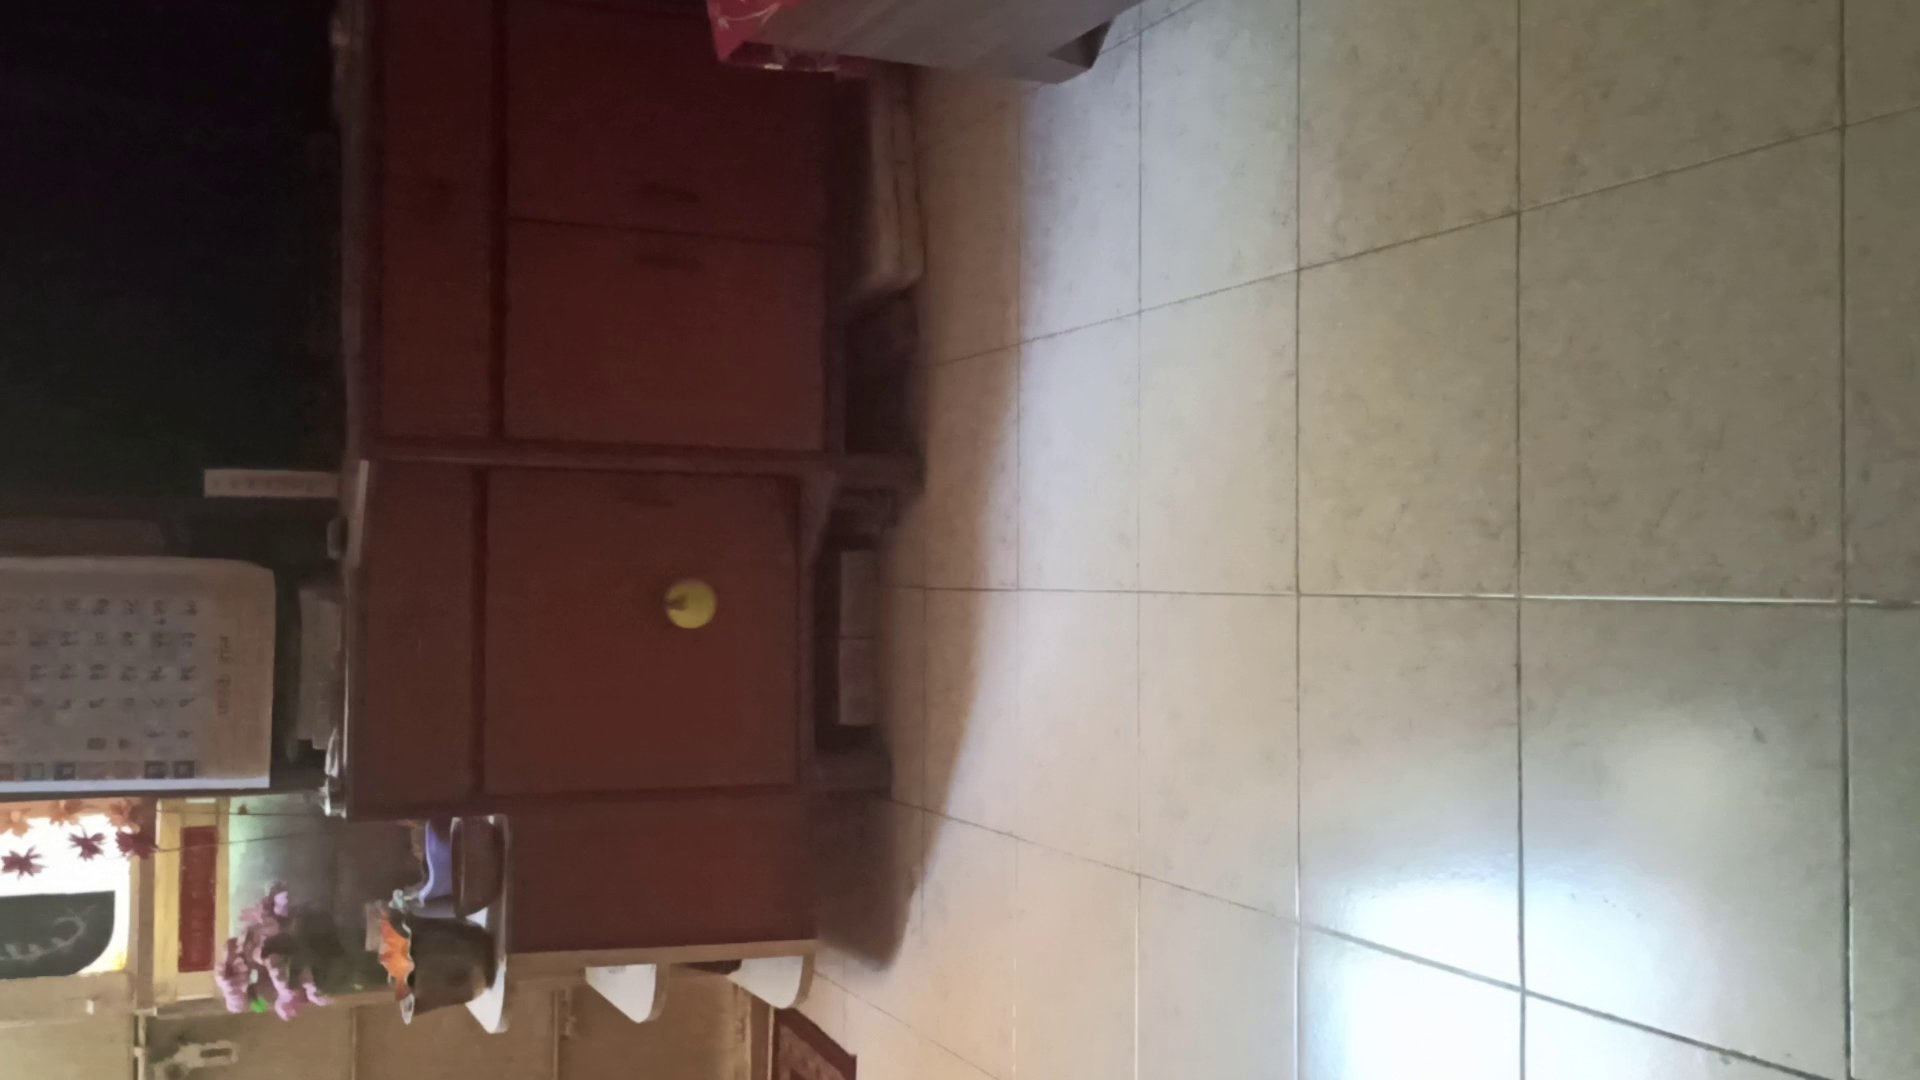Tennis-Ball: (665, 579, 715, 628)
